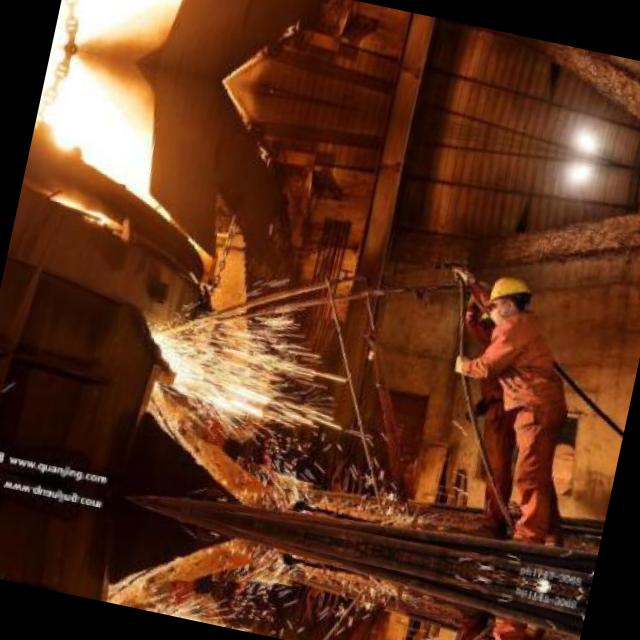helmet: (478, 264, 541, 338)
